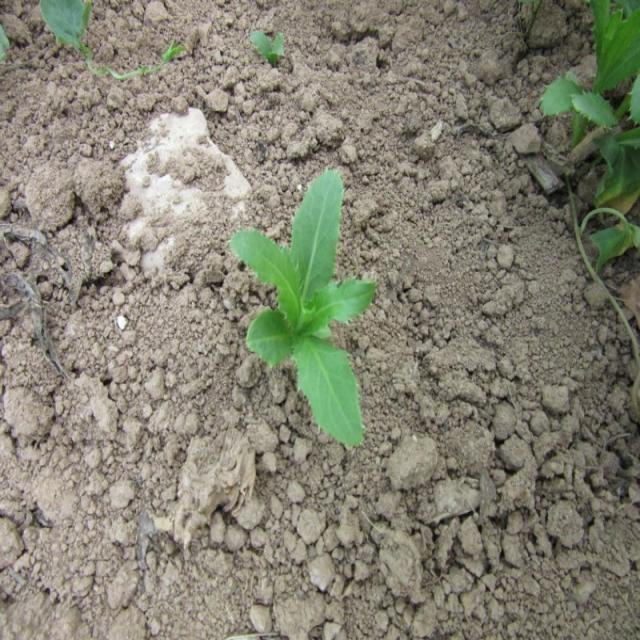field_thistle: (230, 158, 402, 479)
